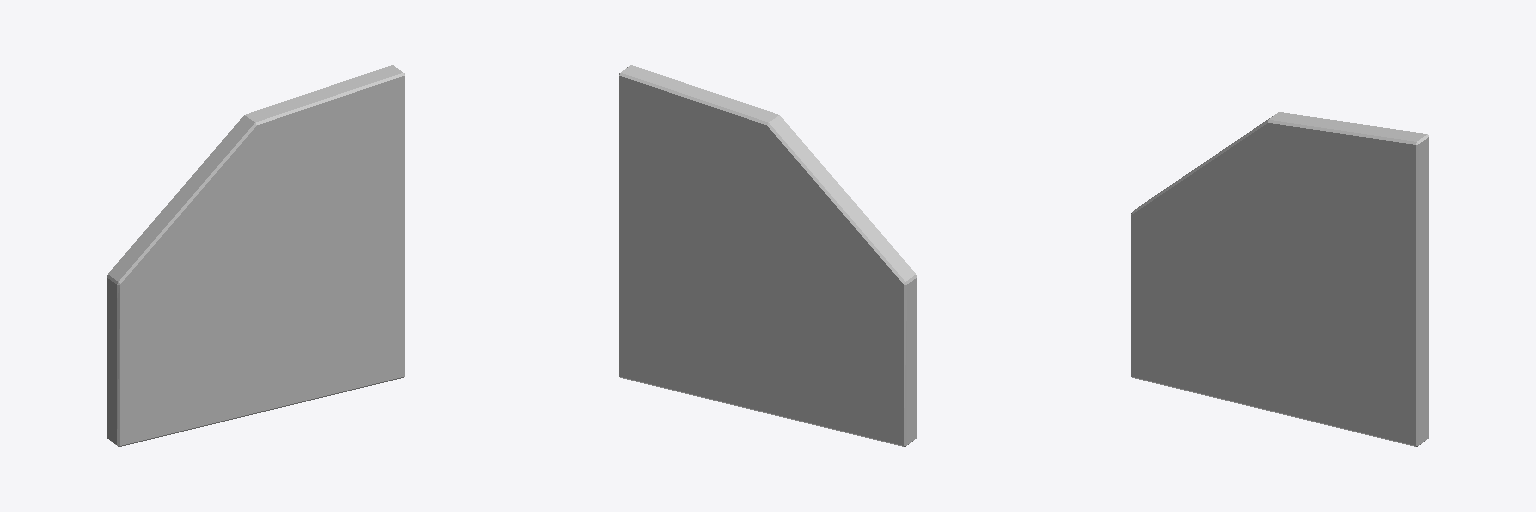
File: EndGateDoor.obj
3 views of the same model, side by side, from view 1: azimuth 30°, elevation 25°; view 2: azimuth 150°, elevation 25°; view 3: azimuth 330°, elevation 25° (orthographic).
Visible parts, largest first — view 1: pCube4; view 2: pCube4; view 3: pCube4.
Part boxes in pixels (x1,y1,x2,y2): pCube4: (107,65,404,446); pCube4: (619,65,916,446); pCube4: (1131,112,1428,446).
Bounding box in the file's own units: 8.58 × 8.68 × 0.6701.